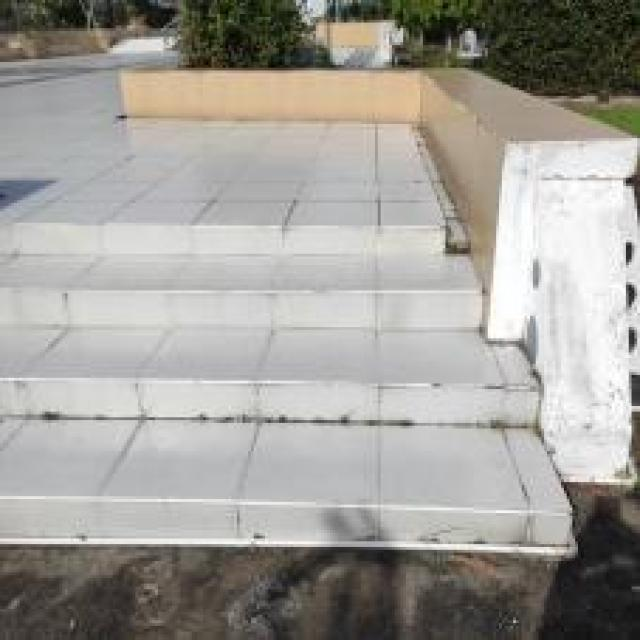upstair: (2, 215, 581, 555)
